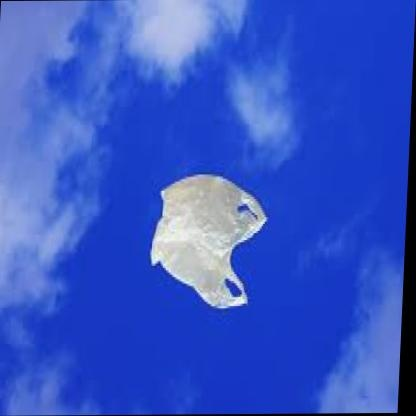trash: (151, 174, 265, 307)
